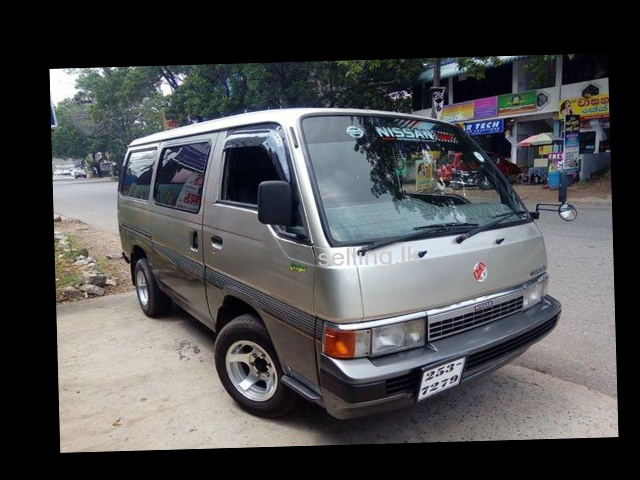van: (116, 105, 580, 418)
